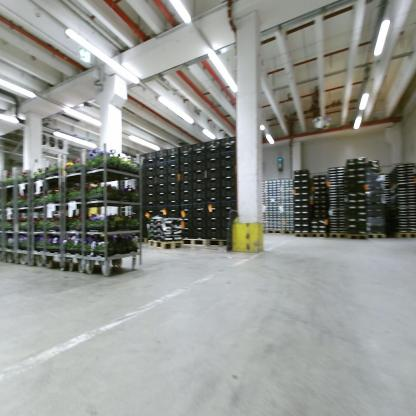pallet: (146, 237, 183, 250), (327, 228, 349, 241), (392, 229, 415, 241), (207, 237, 231, 248), (183, 237, 209, 246), (308, 230, 329, 239), (264, 227, 283, 236), (346, 234, 368, 241), (132, 234, 146, 245), (366, 232, 387, 239), (295, 231, 310, 239), (283, 230, 296, 236)
